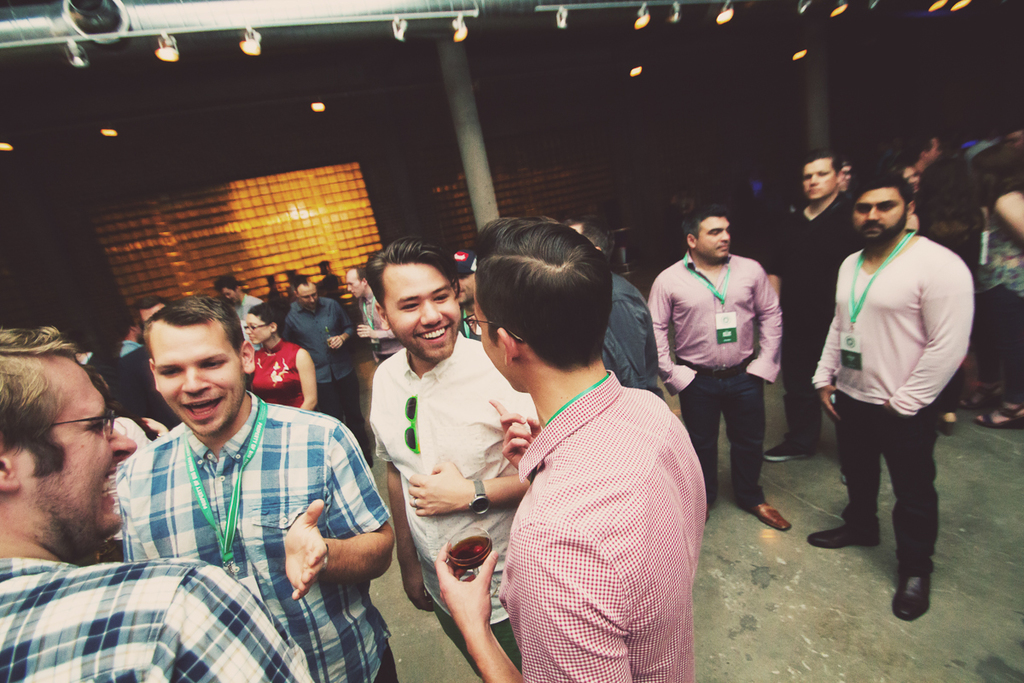Human-face: (17, 357, 138, 533), (154, 321, 247, 436), (385, 261, 461, 359), (474, 285, 520, 394), (847, 188, 905, 241), (805, 161, 842, 203), (694, 217, 727, 260), (243, 313, 271, 347), (345, 270, 366, 301), (919, 140, 940, 167), (899, 167, 922, 191), (297, 283, 316, 309), (223, 285, 241, 304)
